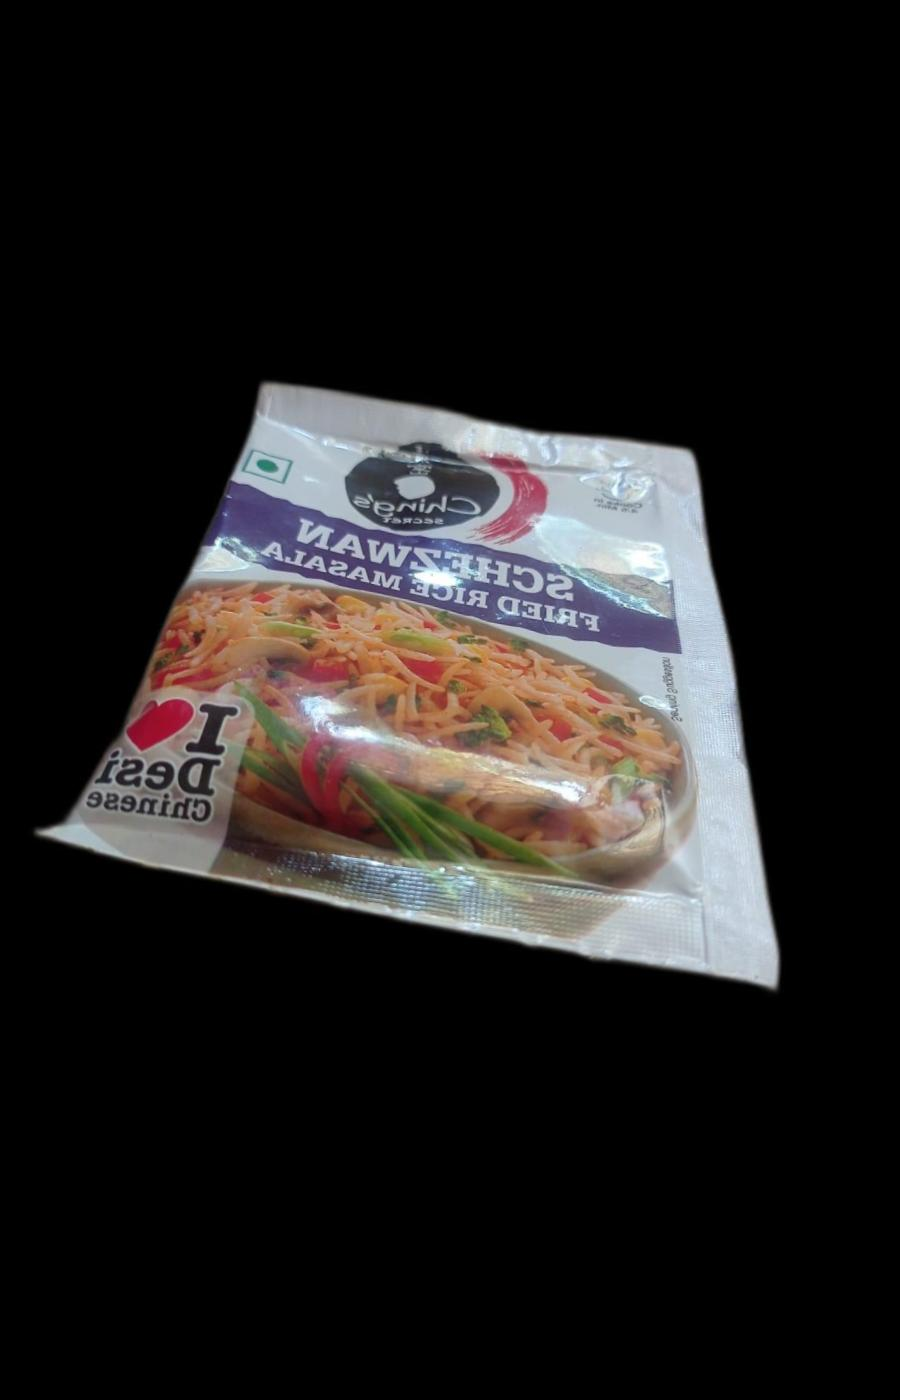Ching-s secret schezwan fried masala: (24, 340, 856, 986)
